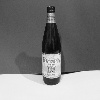beer: (42, 4, 64, 87)
